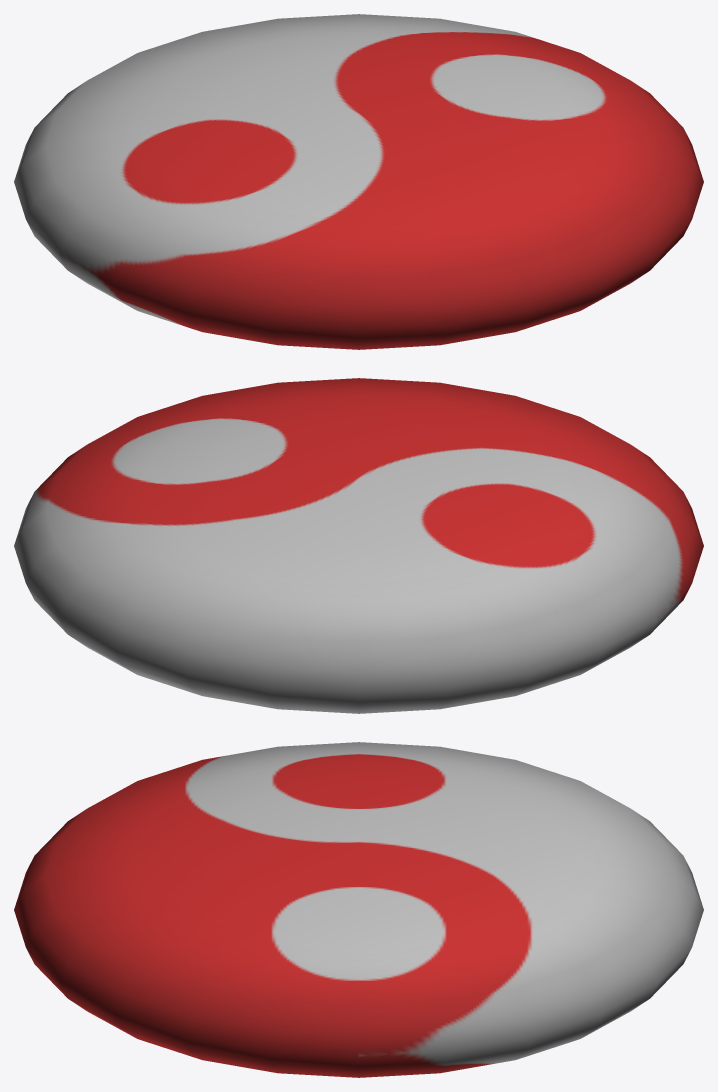
3 renders of one model, top to bottom at view 1: azimuth 30°, elevation 25°; view 2: azimuth 150°, elevation 25°; view 3: azimuth 270°, elevation 25°, orthographic.
Parts seen in each view (by area): view 1: 105512b; view 2: 105512b; view 3: 105512b.
Boxes of the visible parts, x1=… form: 105512b: x1=14, y1=14, x2=703, y2=349; 105512b: x1=14, y1=378, x2=703, y2=713; 105512b: x1=14, y1=742, x2=703, y2=1077.
Bounding box in the file's own units: 46.86 × 10.18 × 46.86.
1 material, 1 textured.
